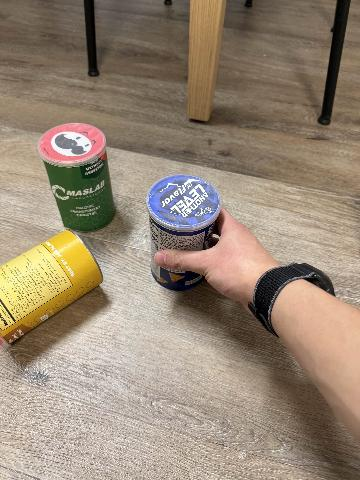Golden Can: (0, 230, 102, 347)
Green Can: (39, 124, 115, 231)
